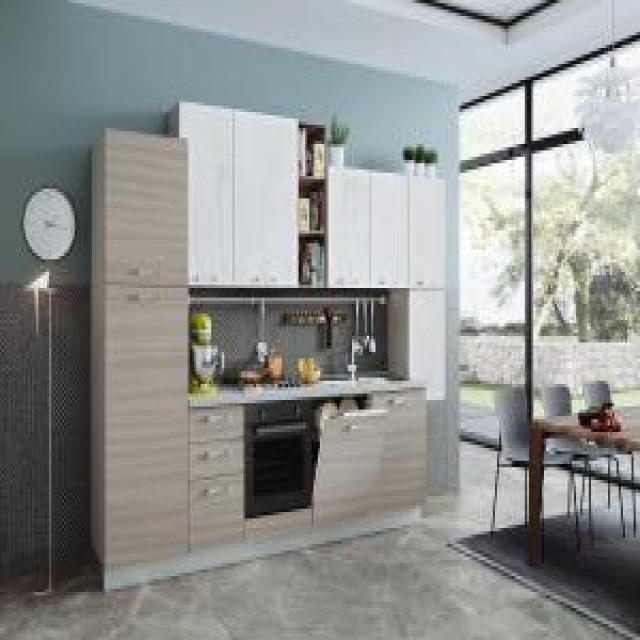dishwasher: (308, 391, 390, 532)
